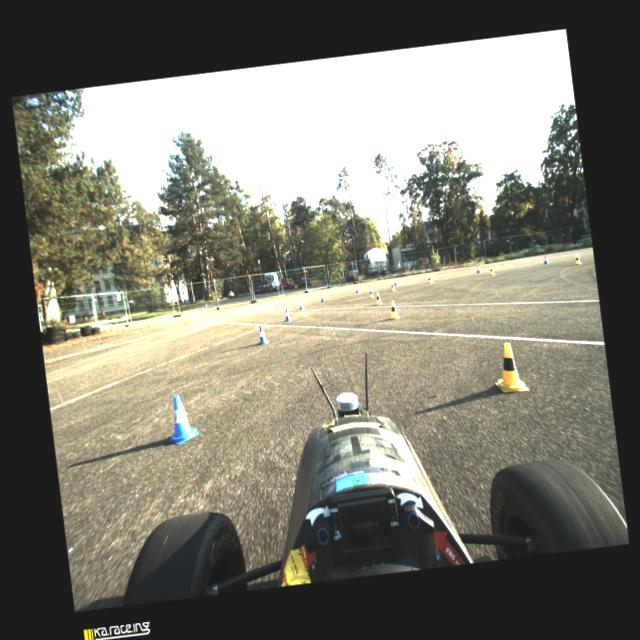blue_cone: (163, 392, 200, 445), (256, 324, 270, 344), (284, 308, 290, 321), (298, 300, 304, 309), (427, 272, 432, 280), (543, 255, 548, 263), (393, 278, 398, 285), (320, 293, 324, 301), (354, 286, 358, 292), (476, 266, 480, 272)
yellow_cone: (490, 341, 529, 394), (388, 300, 399, 318), (574, 252, 581, 264), (376, 292, 382, 304), (368, 288, 374, 298), (489, 265, 494, 274), (390, 282, 394, 290), (428, 275, 432, 283)
